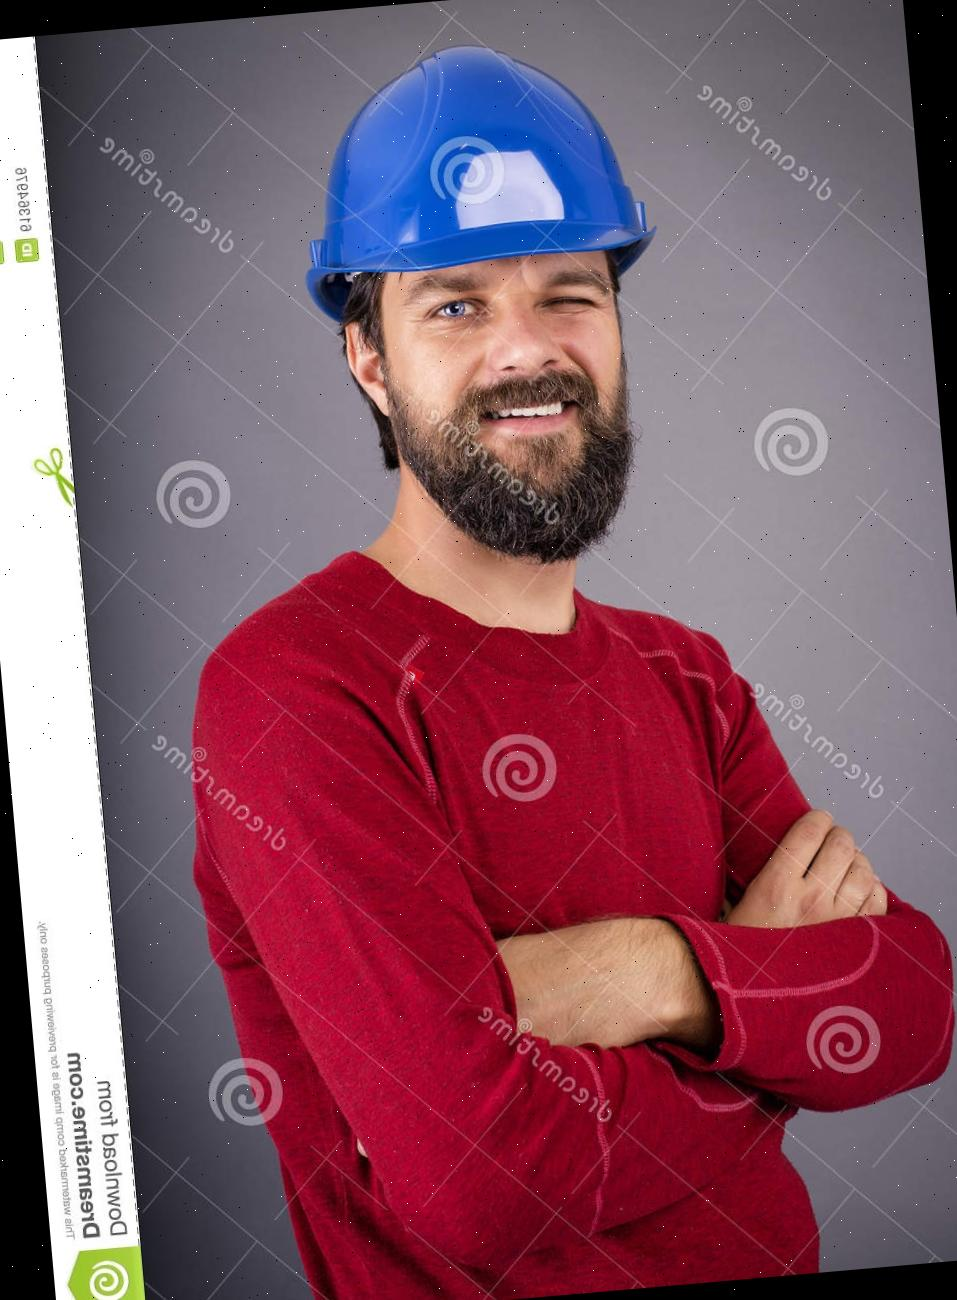helmet: (284, 48, 659, 307)
no_wear: (182, 567, 826, 1300)
